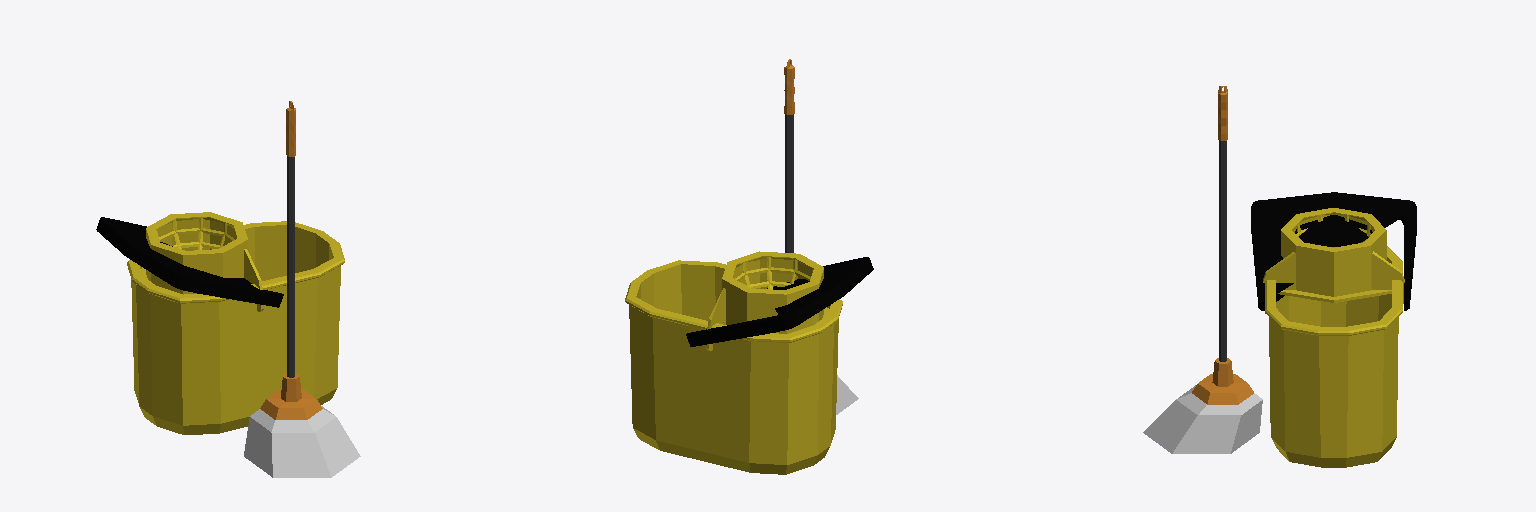
The model's file is Mop&Bucket.obj.
The picture shows the model from 3 angles: view 1: azimuth 30°, elevation 25°; view 2: azimuth 150°, elevation 25°; view 3: azimuth 270°, elevation 25°; orthographic projection.
Visible parts, largest first — view 1: Bucket_Cube, Broom_Cylinder.004; view 2: Bucket_Cube, Broom_Cylinder.004; view 3: Bucket_Cube, Broom_Cylinder.004.
Part boxes in pixels (left/top/right/bottom): Bucket_Cube: left=96, top=212, right=344, bottom=434; Broom_Cylinder.004: left=244, top=101, right=360, bottom=477; Bucket_Cube: left=625, top=251, right=873, bottom=474; Broom_Cylinder.004: left=784, top=59, right=858, bottom=414; Bucket_Cube: left=1251, top=192, right=1416, bottom=467; Broom_Cylinder.004: left=1143, top=86, right=1262, bottom=453.
Size of the model in its own units: 1.58 by 2.53 by 1.81.